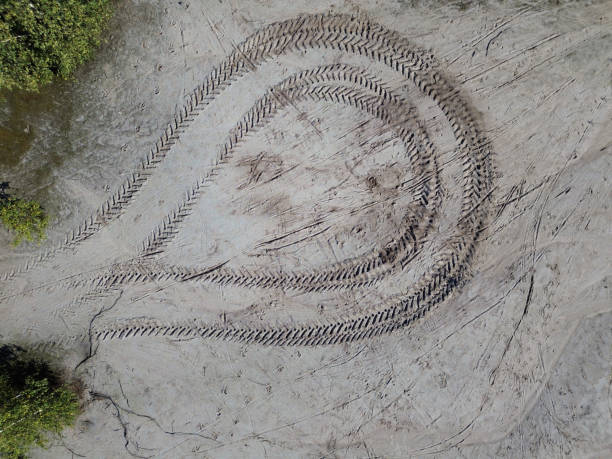vehicle_track: (92, 14, 491, 344)
